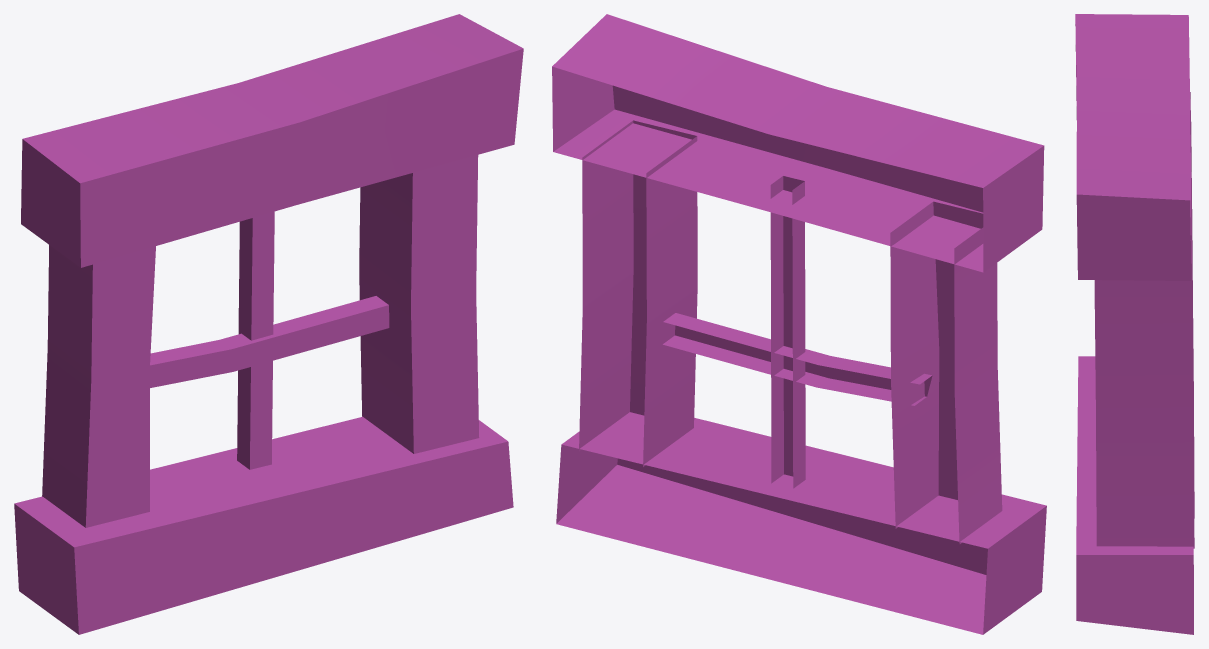
The model's file is windows_1.fbx.
The picture shows the model from 3 angles, left to right: view 1: azimuth 30°, elevation 25°; view 2: azimuth 150°, elevation 25°; view 3: azimuth 270°, elevation 25°; orthographic projection. The views are drawn at different scales.
Parts seen in each view (by area): view 1: window_low; view 2: window_low; view 3: window_low.
Part boxes in pixels (x1,y1,x2,y2): window_low: (14,14,523,634); window_low: (552,14,1046,634); window_low: (1075,14,1194,634).
Size of the model in its own units: 83.56 by 85.22 by 20.36.
